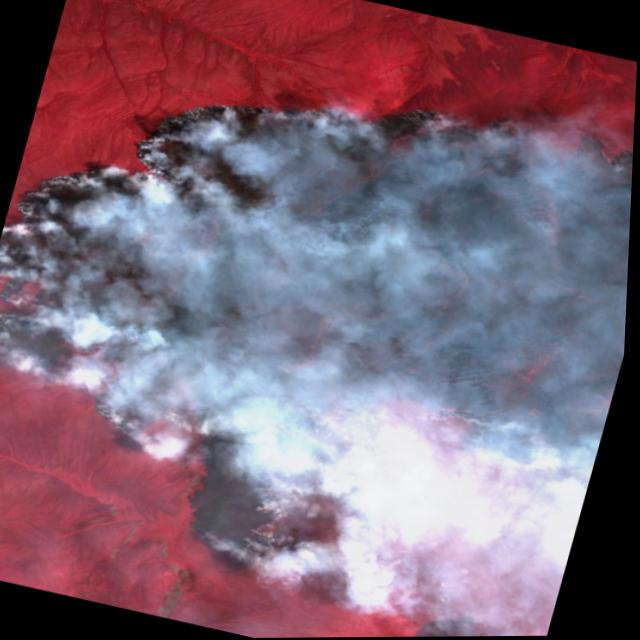fire: (0, 9, 640, 638)
